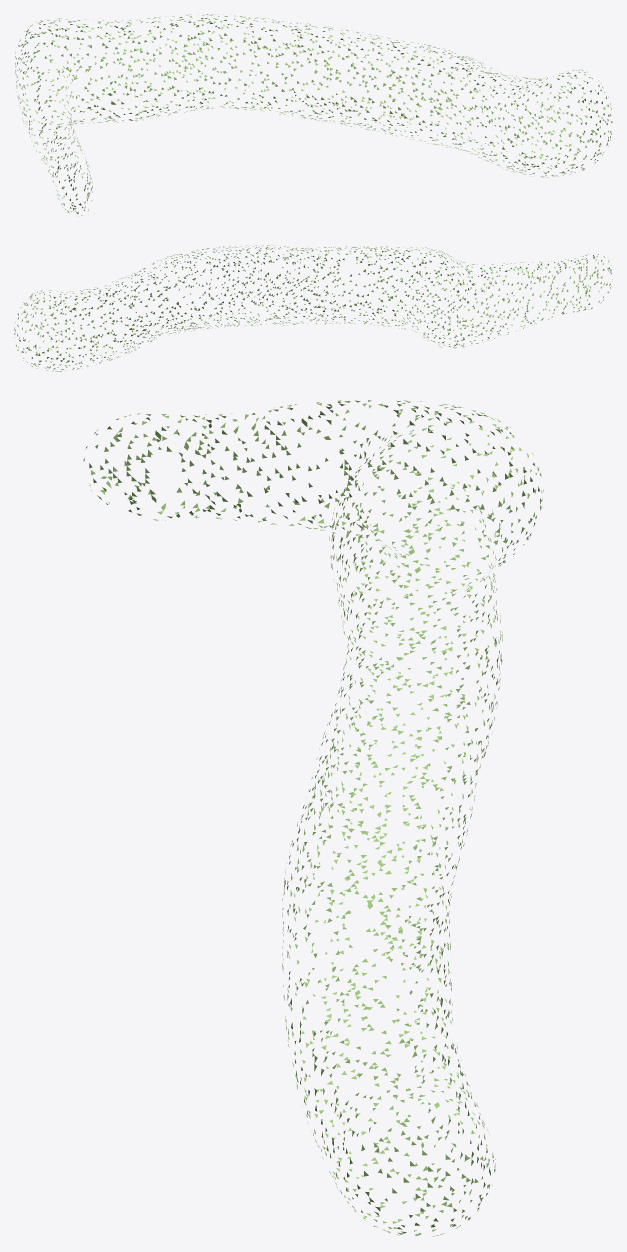
File: morph_013.glb
The picture shows the model from 3 angles, top to bottom: view 1: azimuth 30°, elevation 25°; view 2: azimuth 150°, elevation 25°; view 3: azimuth 270°, elevation 25°; orthographic projection. The views are drawn at different scales.
Size of the model in its own units: 145 by 57.36 by 56.86.
